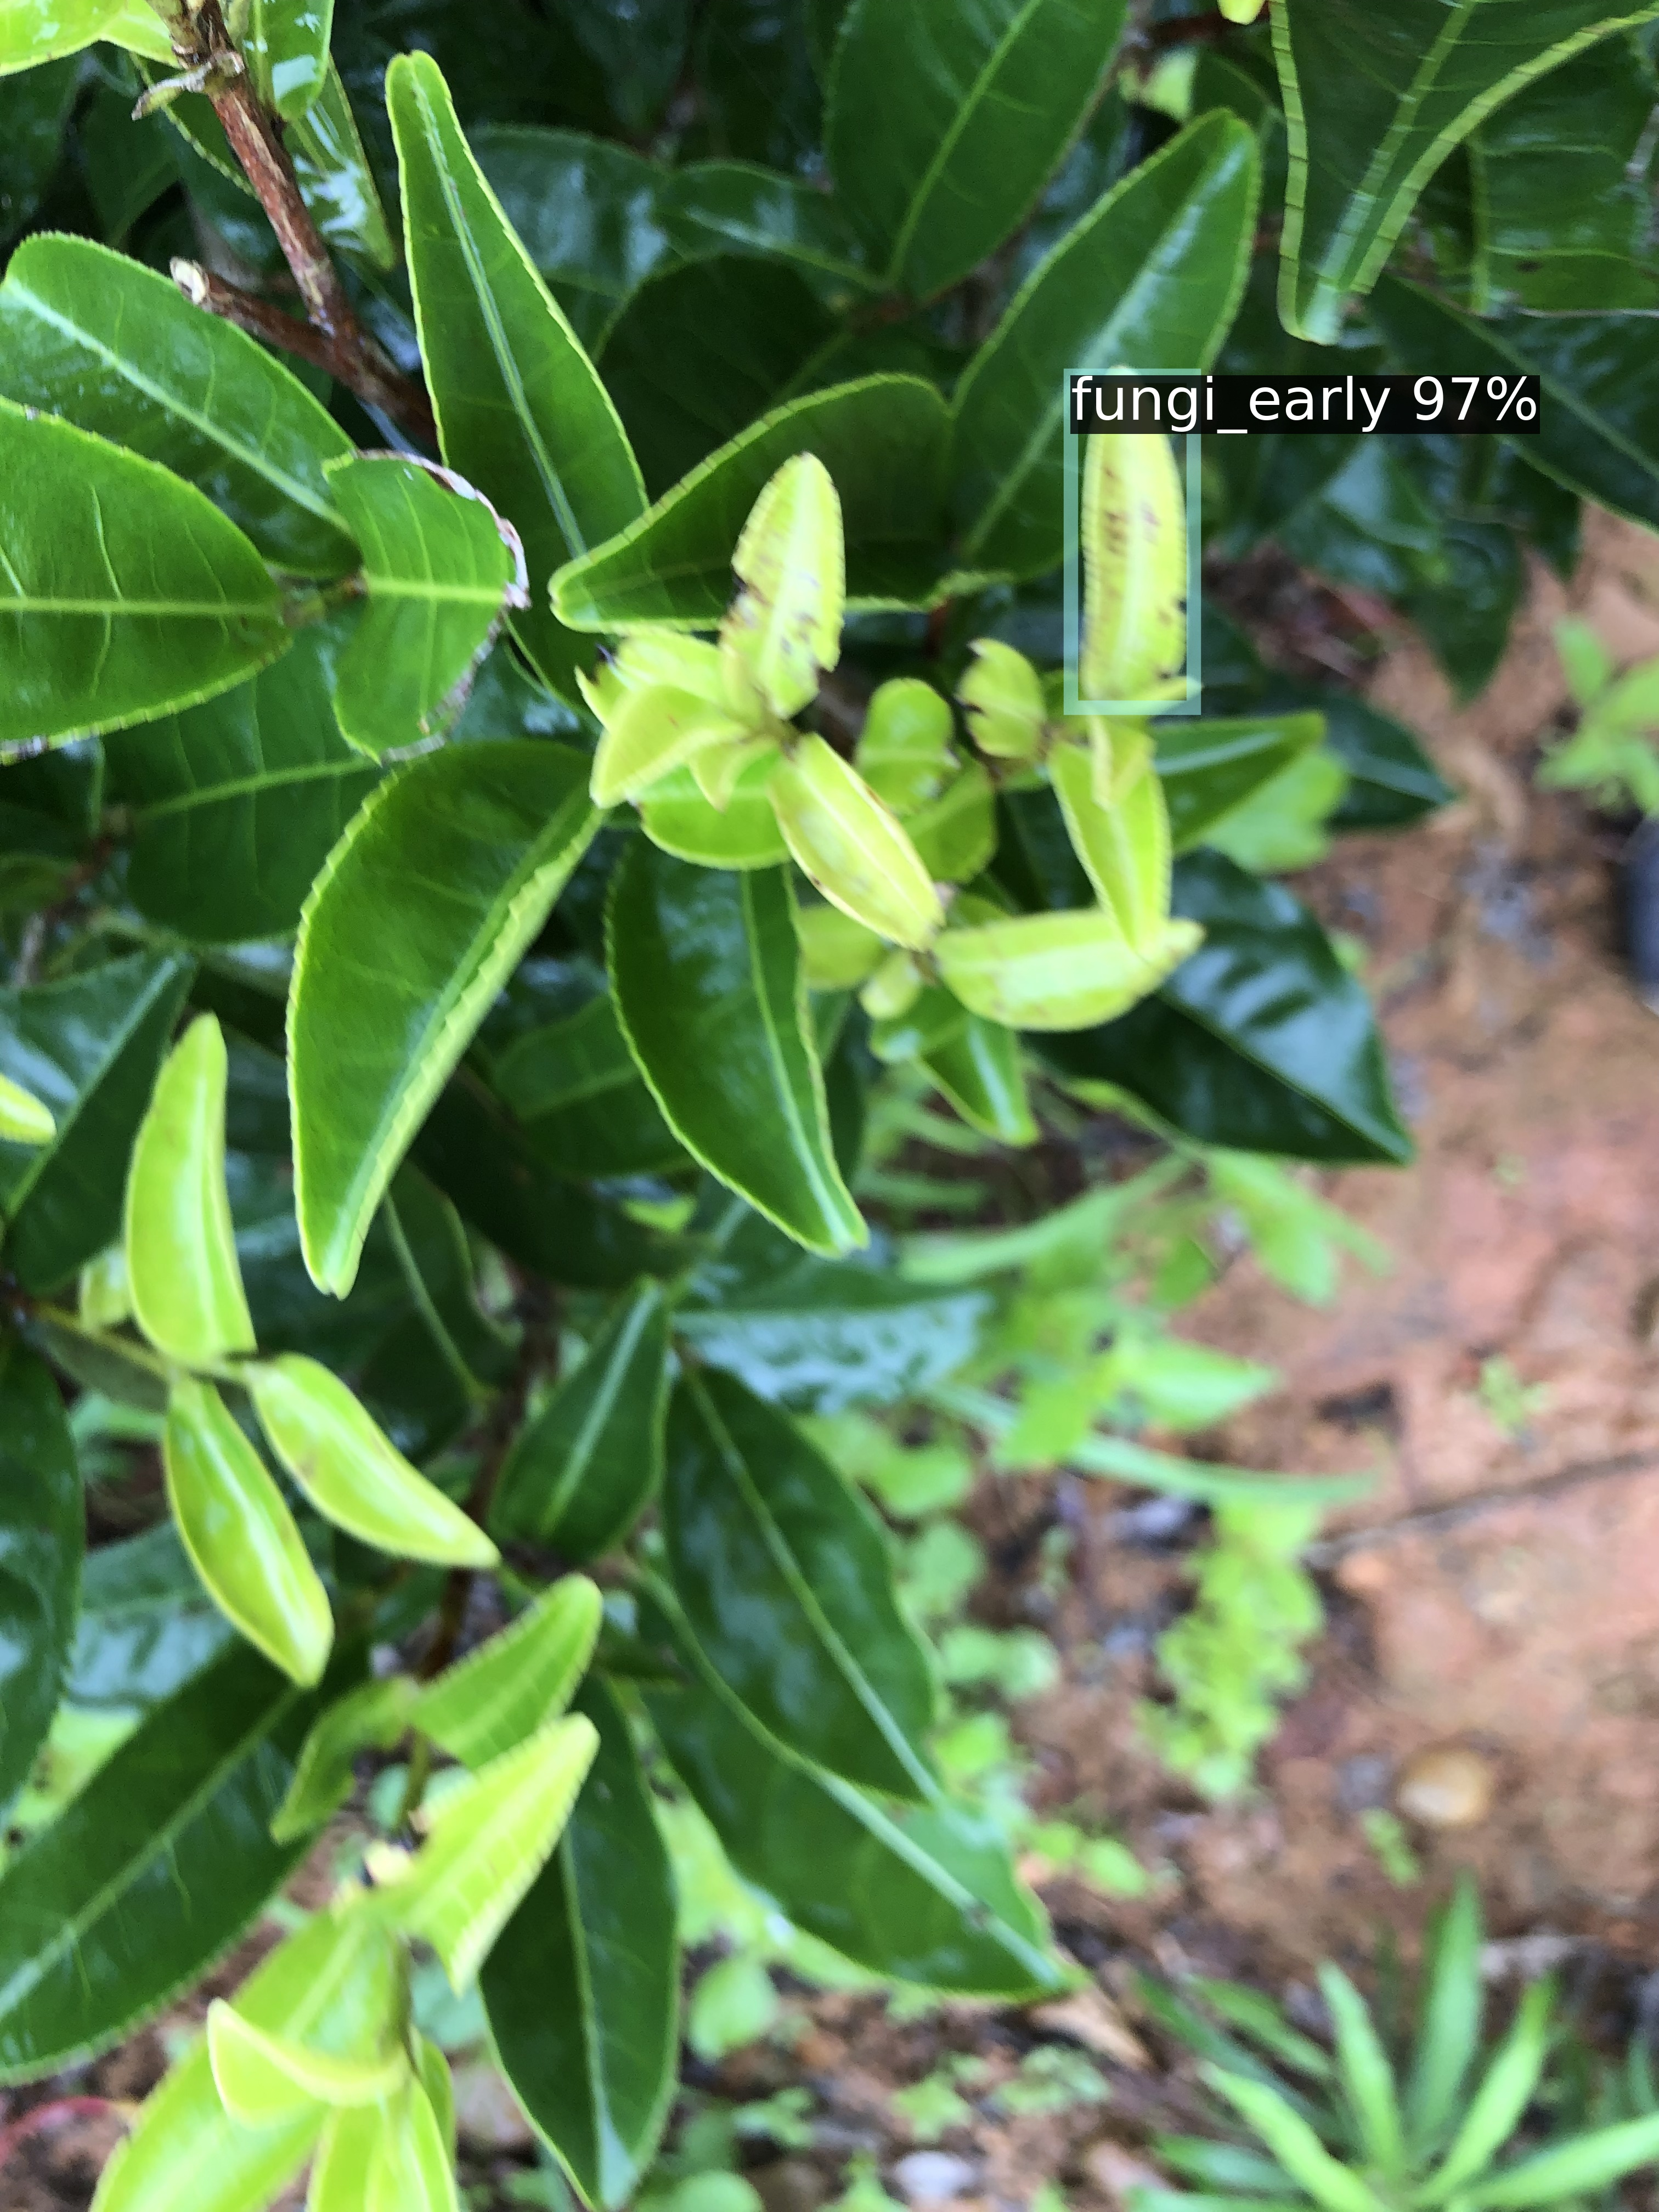fungi_early: (1072, 374, 1194, 707)
